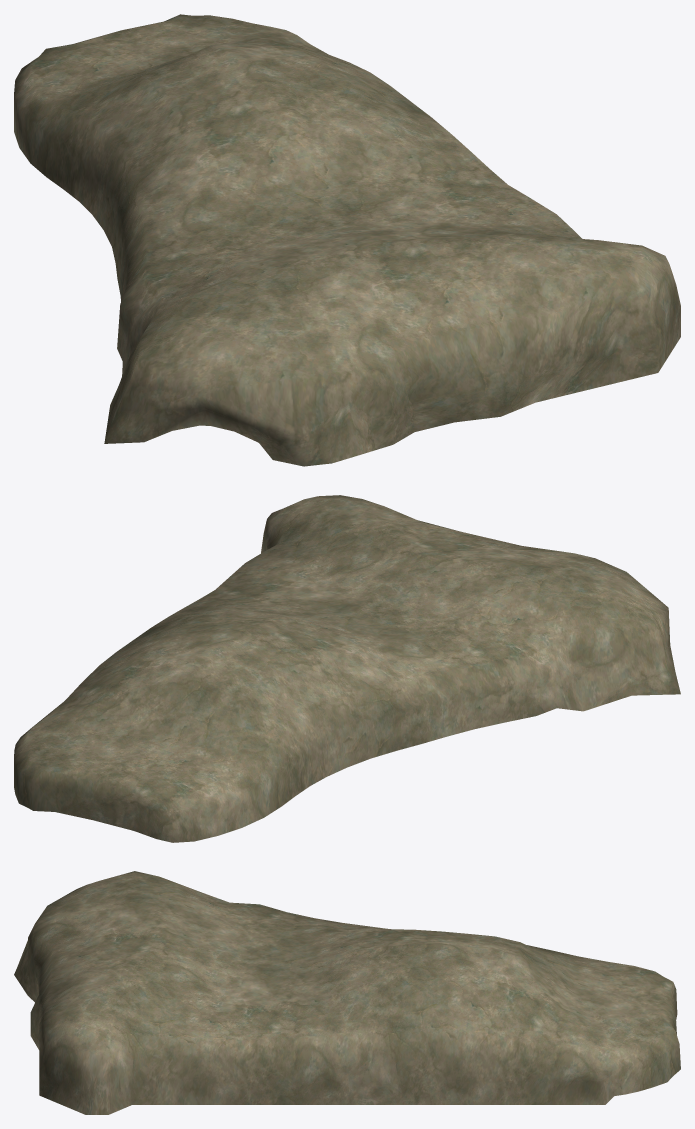
File: EKH_BARRELROOM_PS_JA1_CEILING94847.fbx
3 renders of one model, top to bottom at view 1: azimuth 30°, elevation 25°; view 2: azimuth 150°, elevation 25°; view 3: azimuth 270°, elevation 25°, orthographic. The views are drawn at different scales.
Visible parts, largest first — view 1: EKH_BARRELROOM_PS_JA1_CEILING94847; view 2: EKH_BARRELROOM_PS_JA1_CEILING94847; view 3: EKH_BARRELROOM_PS_JA1_CEILING94847.
Part boxes in pixels (x1,y1,x2,y2): EKH_BARRELROOM_PS_JA1_CEILING94847: (14, 14, 680, 466); EKH_BARRELROOM_PS_JA1_CEILING94847: (14, 495, 680, 842); EKH_BARRELROOM_PS_JA1_CEILING94847: (14, 871, 680, 1114).
Size of the model in its own units: 202174 by 48318 by 287963.
Materials: 1 (1 with a texture image).
